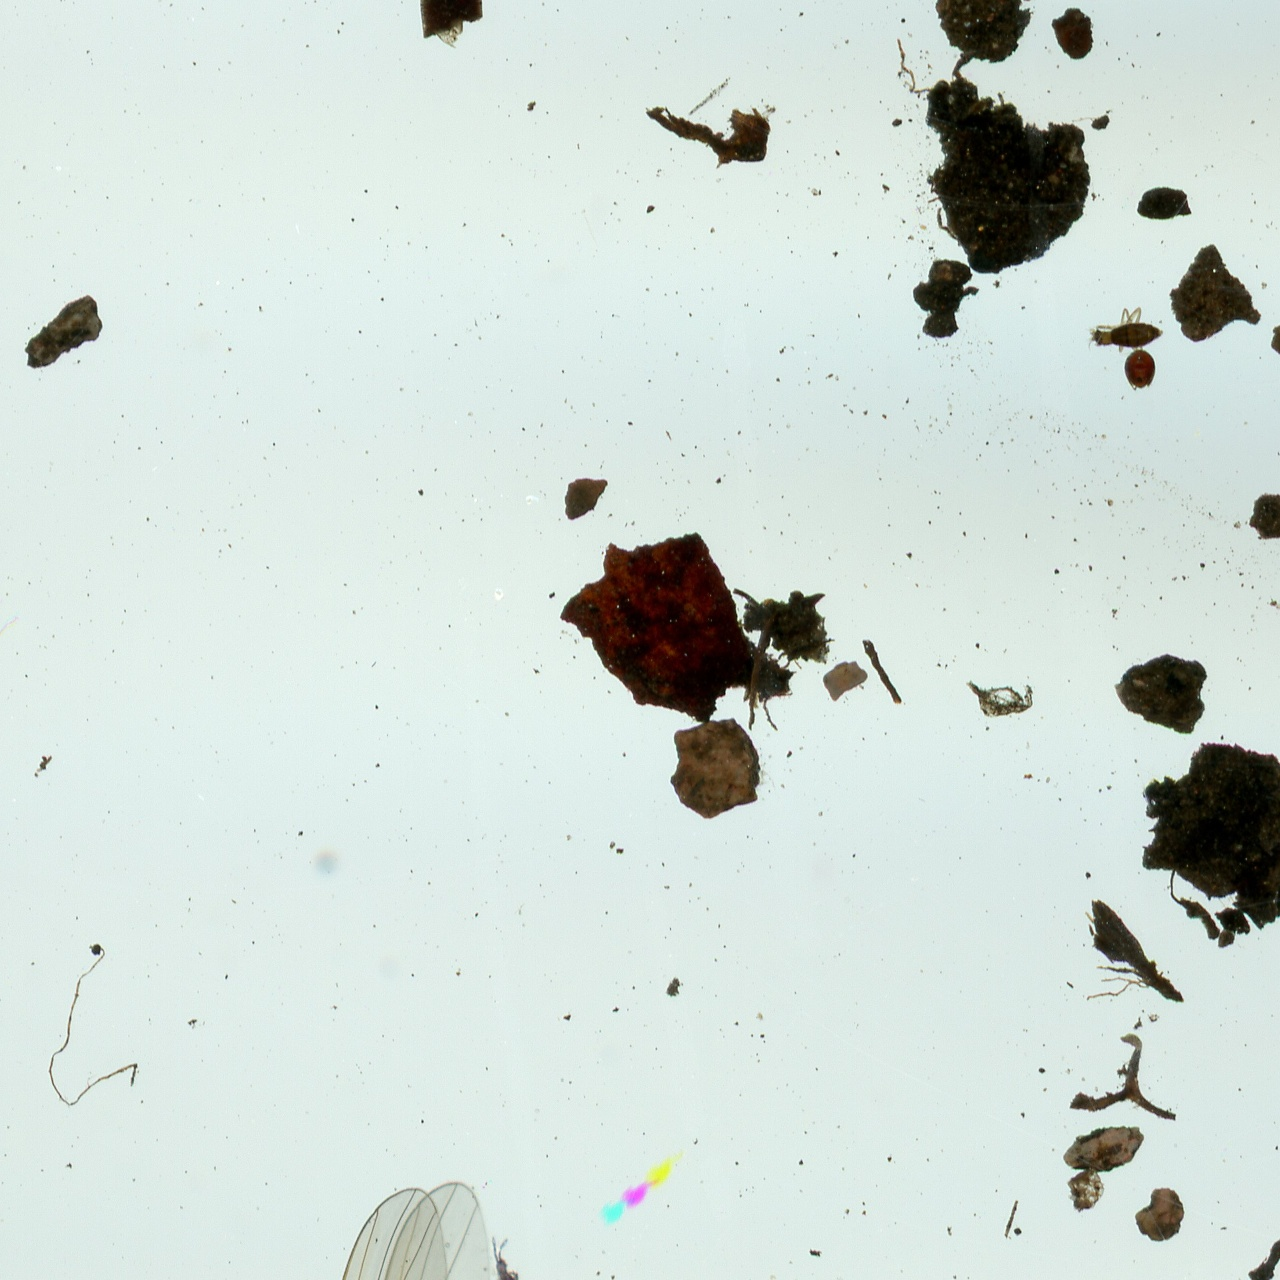arthropod: (229, 1176, 525, 1280), (1084, 305, 1167, 353), (481, 1227, 536, 1280), (1121, 349, 1158, 395)
